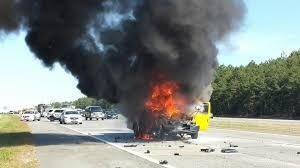fire: (137, 76, 208, 134)
